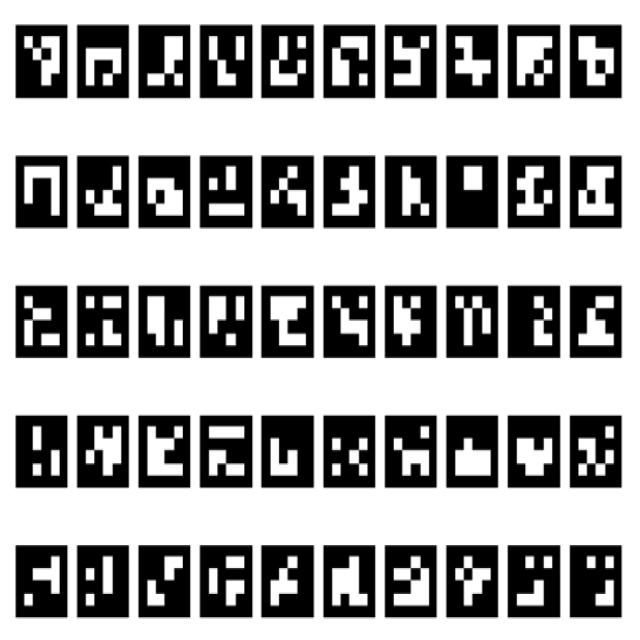aruco: (7, 14, 71, 114), (257, 16, 319, 110), (136, 15, 193, 113), (201, 11, 254, 110), (75, 17, 132, 107), (323, 24, 380, 104), (444, 23, 500, 98), (385, 24, 439, 100), (568, 24, 622, 99), (15, 154, 69, 229), (384, 155, 437, 231), (199, 414, 254, 487), (447, 284, 499, 361), (386, 413, 439, 487), (76, 284, 128, 359), (201, 543, 253, 618), (510, 542, 561, 618), (262, 155, 314, 229), (510, 23, 561, 98), (200, 155, 252, 228), (509, 155, 561, 228), (139, 158, 193, 228), (14, 546, 68, 616), (263, 544, 314, 618), (385, 548, 436, 622), (447, 544, 498, 618), (16, 414, 68, 486), (570, 416, 622, 488), (140, 412, 189, 488), (78, 413, 129, 486), (325, 153, 375, 227), (510, 284, 560, 358), (17, 286, 68, 358), (572, 544, 622, 617), (201, 287, 252, 358), (263, 415, 314, 486), (138, 286, 189, 356), (80, 155, 128, 229), (324, 416, 374, 487), (78, 545, 128, 616), (324, 286, 373, 358), (510, 417, 560, 487), (571, 156, 620, 227), (573, 284, 621, 356), (449, 415, 496, 488), (324, 548, 375, 615), (448, 156, 496, 227), (264, 286, 312, 357), (386, 288, 436, 354), (142, 546, 190, 614)
